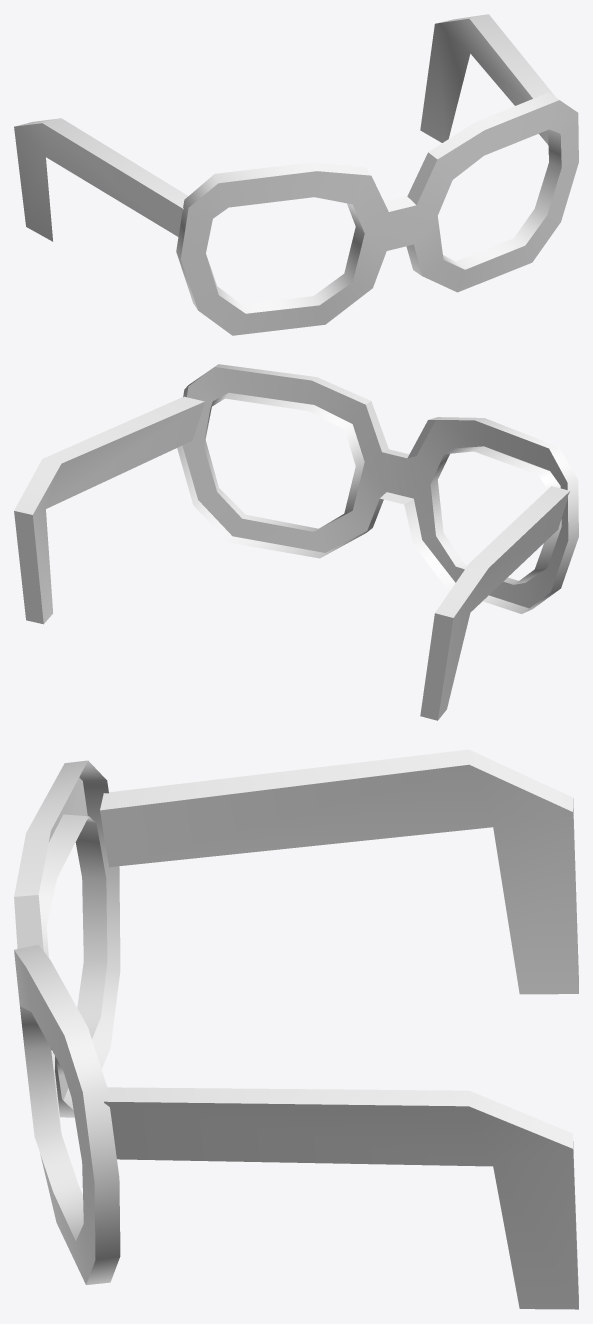
The model's file is Female_Glasses_01_v2.fbx.
3 views of the same model, one above another, from view 1: azimuth 30°, elevation 25°; view 2: azimuth 150°, elevation 25°; view 3: azimuth 270°, elevation 25° (orthographic). The views are drawn at different scales.
Parts seen in each view (by area): view 1: Female_Glasses_01_v2; view 2: Female_Glasses_01_v2; view 3: Female_Glasses_01_v2.
Part boxes in pixels (box(x1,y1,x2,y2)): Female_Glasses_01_v2: box(14, 14, 578, 335); Female_Glasses_01_v2: box(14, 364, 578, 720); Female_Glasses_01_v2: box(14, 749, 578, 1309).
Size of the model in its own units: 55.77 by 20.1 by 37.32.
